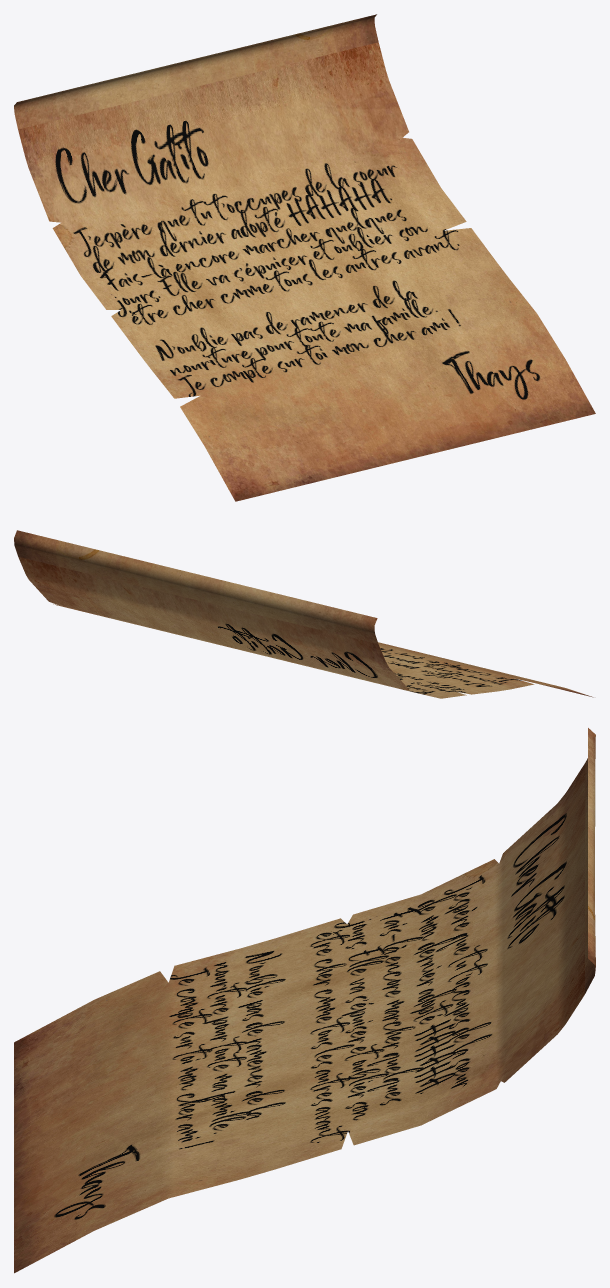
File: parchemin-complet.fbx
3 renders of one model, top to bottom at view 1: azimuth 30°, elevation 25°; view 2: azimuth 150°, elevation 25°; view 3: azimuth 270°, elevation 25°, orthographic. The views are drawn at different scales.
Visible parts, largest first — view 1: nurbsToPoly1; view 2: nurbsToPoly1; view 3: nurbsToPoly1.
Part boxes in pixels (box(x1,y1,x2,y2)): nurbsToPoly1: box(14, 14, 595, 501); nurbsToPoly1: box(14, 530, 593, 698); nurbsToPoly1: box(14, 728, 595, 1273).
Bounding box in the file's own units: 5.08 × 3.23 × 5.41.
